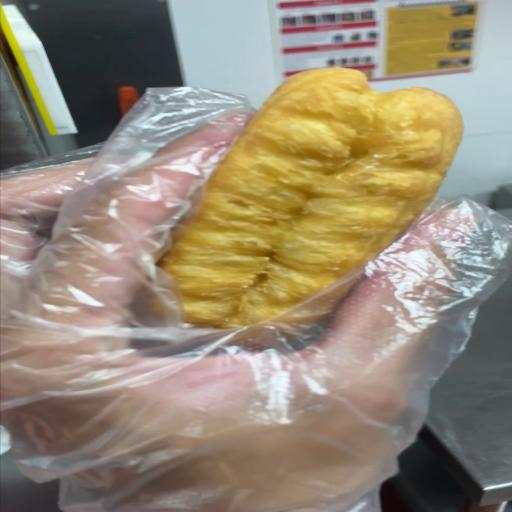brand_golden_good: (161, 68, 462, 328)
